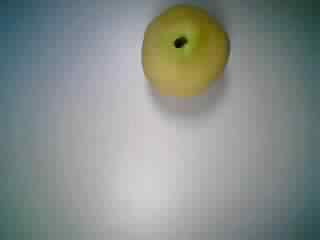pear: (128, 2, 239, 112)
